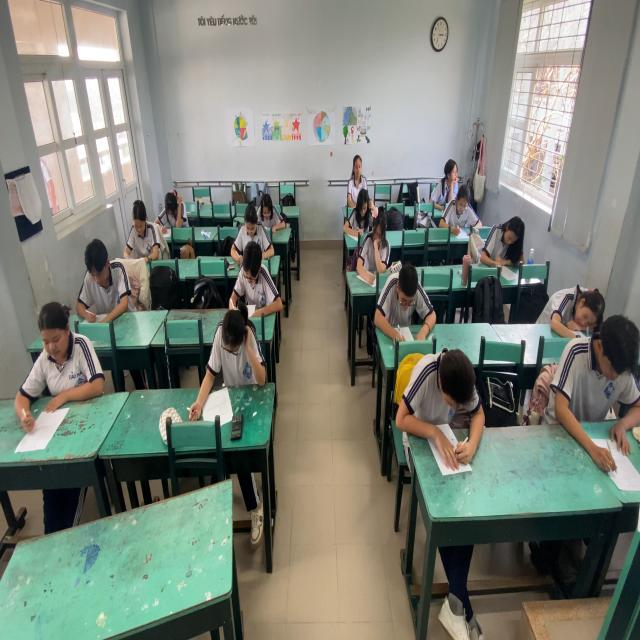not_cheating: (560, 316, 636, 449), (404, 341, 484, 452), (28, 297, 93, 417), (372, 257, 438, 341), (71, 230, 126, 328), (227, 244, 290, 325), (209, 310, 268, 389), (539, 274, 603, 338), (478, 204, 527, 266), (120, 195, 159, 272), (360, 208, 394, 280), (232, 201, 273, 253), (442, 177, 478, 232), (156, 171, 186, 231), (430, 149, 460, 209), (248, 180, 281, 227), (340, 189, 376, 230), (346, 148, 375, 191)
